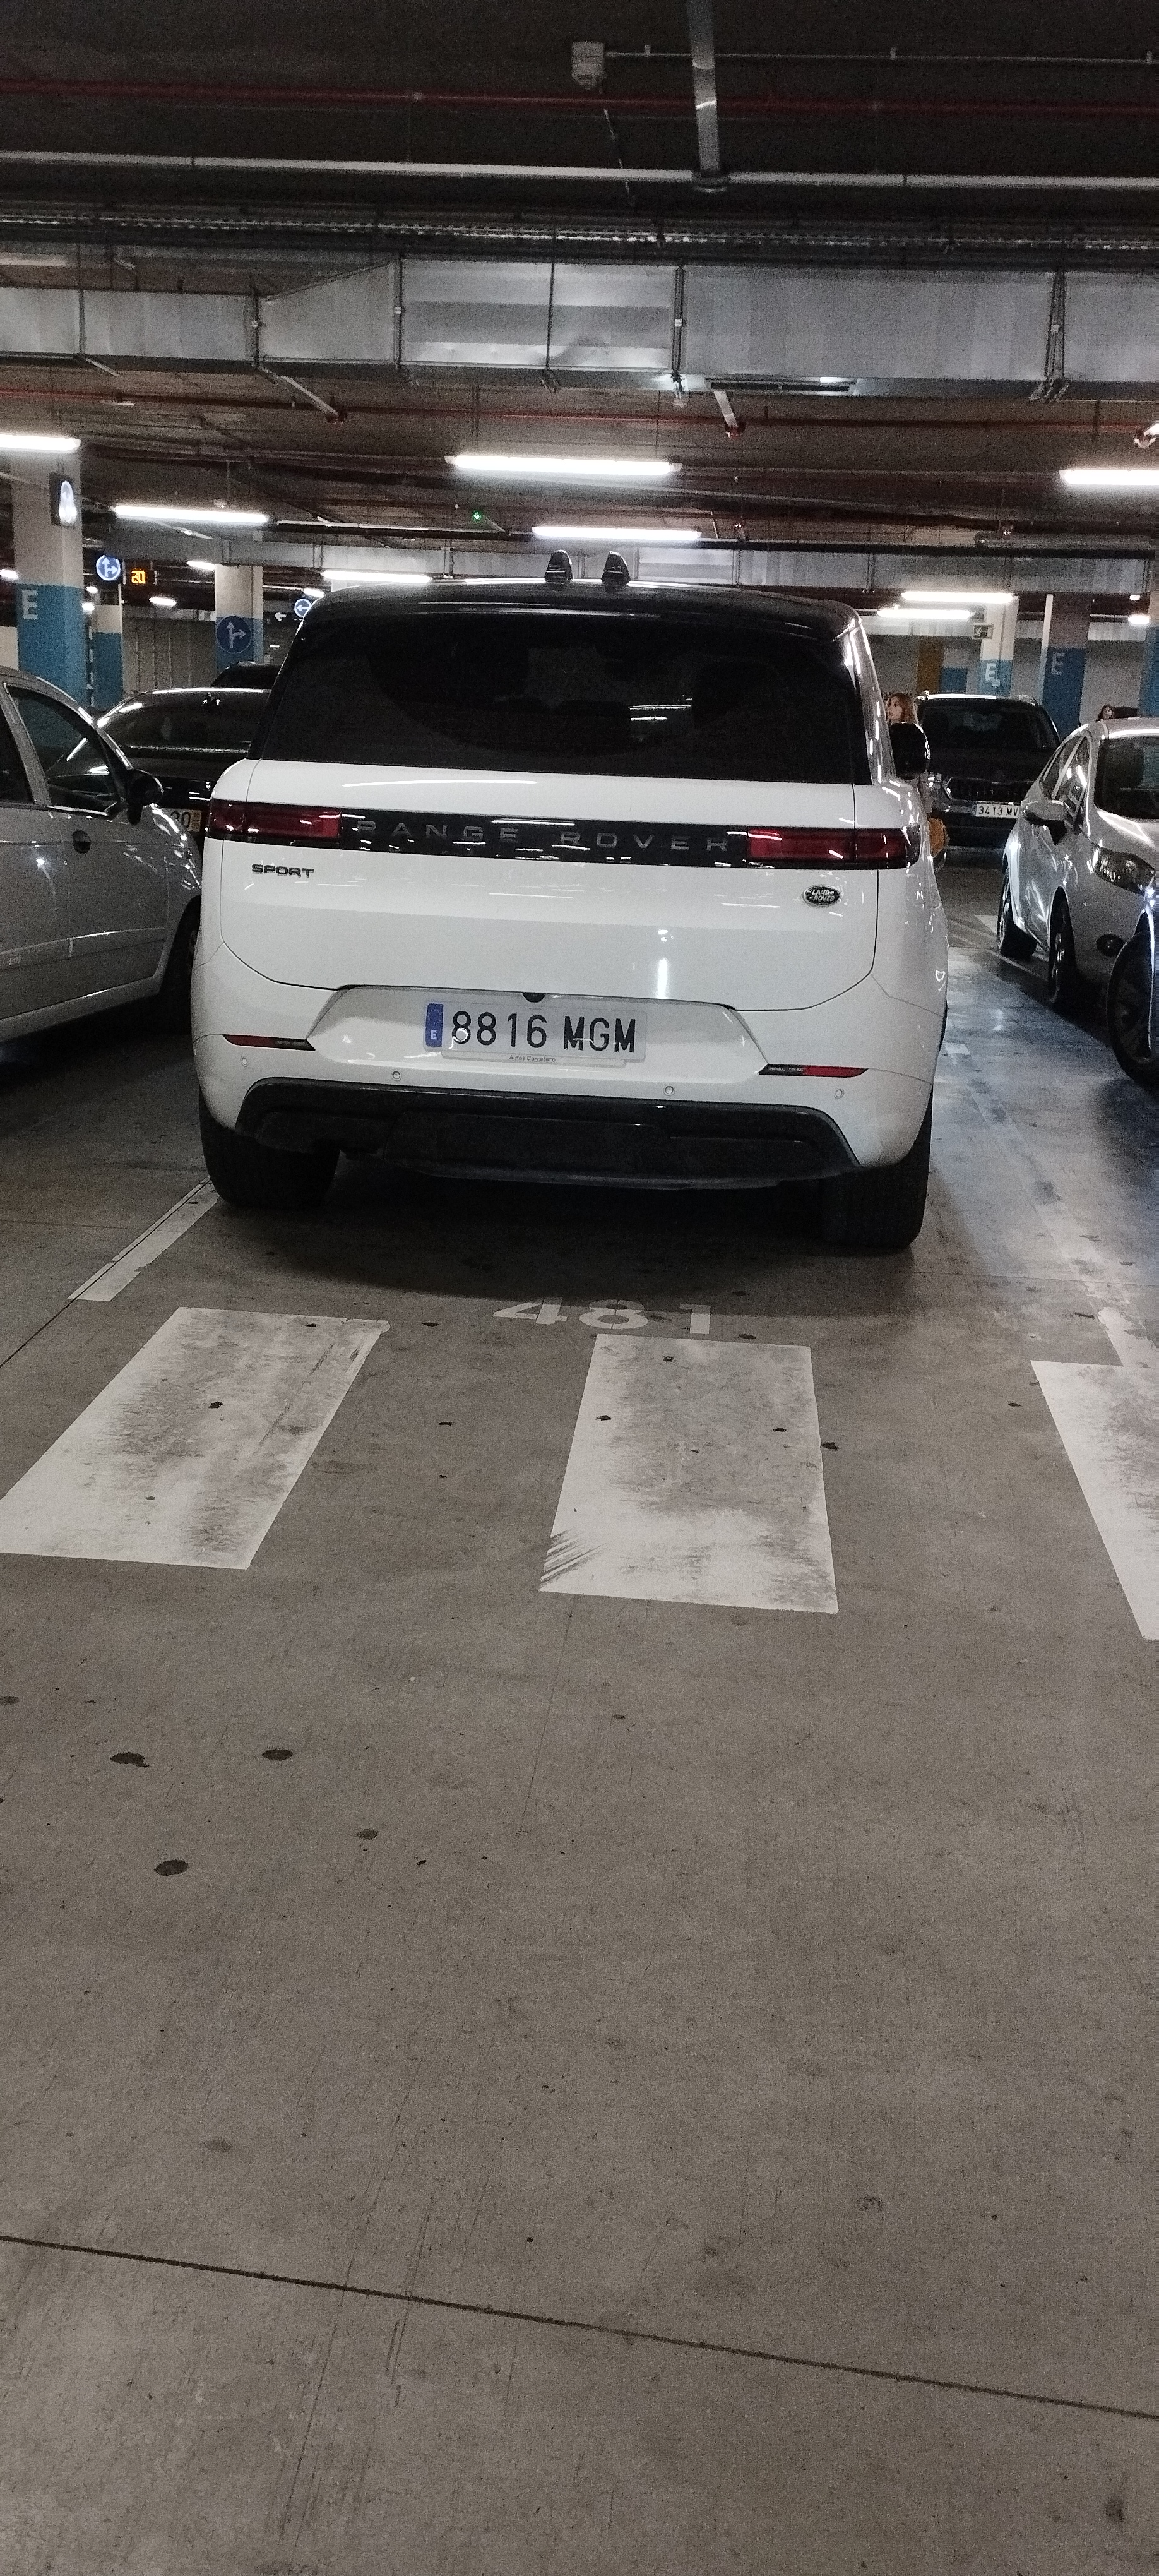Car: (196, 575, 931, 1249)
Plate: (421, 999, 641, 1059)
